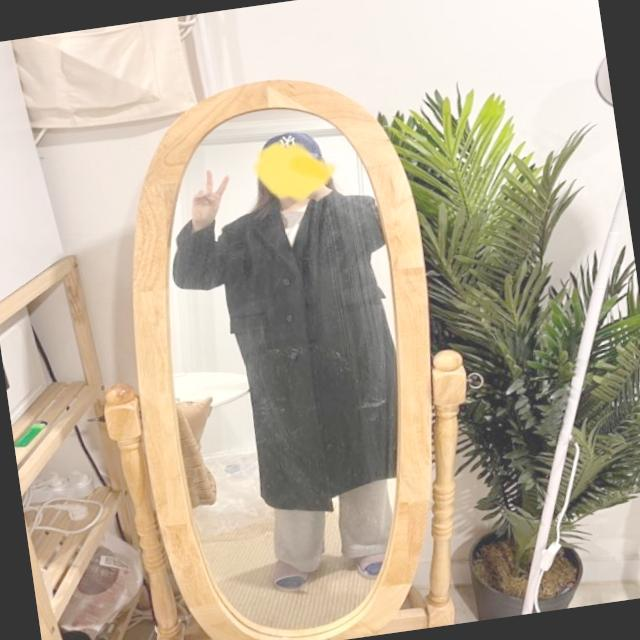coat: (164, 176, 421, 532)
trainingpants: (263, 478, 402, 574)
